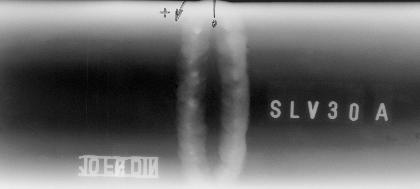FF: (172, 45, 212, 146)
